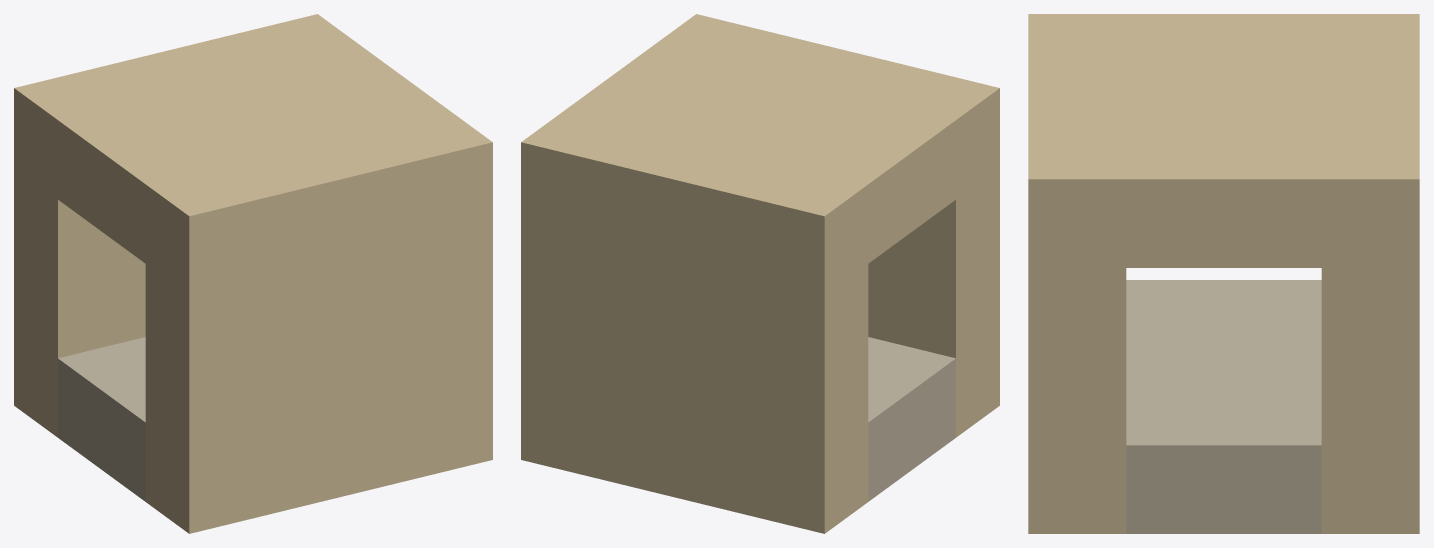
Rendered from building_arcade.glb.
The picture shows the model from 3 angles, left to right: view 1: azimuth 30°, elevation 25°; view 2: azimuth 150°, elevation 25°; view 3: azimuth 270°, elevation 25°; orthographic projection. The views are drawn at different scales.
Visible parts, largest first — view 1: building_arcade; view 2: building_arcade; view 3: building_arcade.
Boxes of the visible parts, box(x1,y1,x2,y2) form: building_arcade: box(14, 14, 492, 533); building_arcade: box(521, 14, 999, 533); building_arcade: box(1028, 14, 1419, 533).
Bounding box in the file's own units: 1 × 1 × 1.
1 material, 1 textured.
